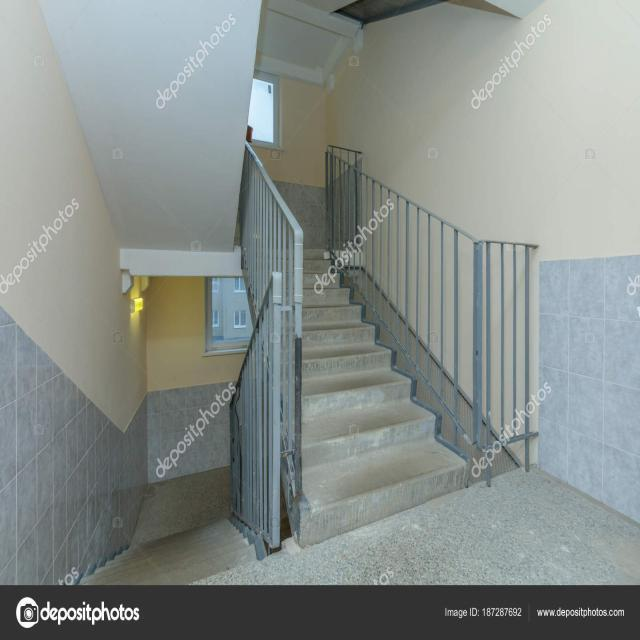stairs: (280, 244, 470, 548)
